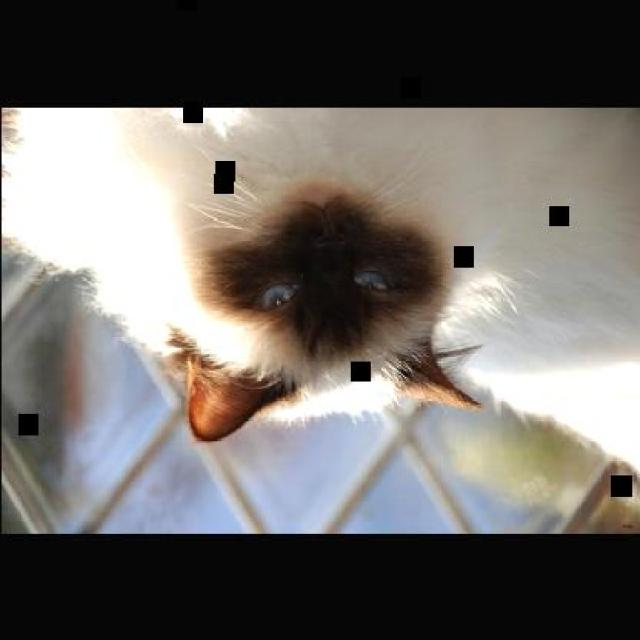unauthorized: (0, 106, 518, 443)
